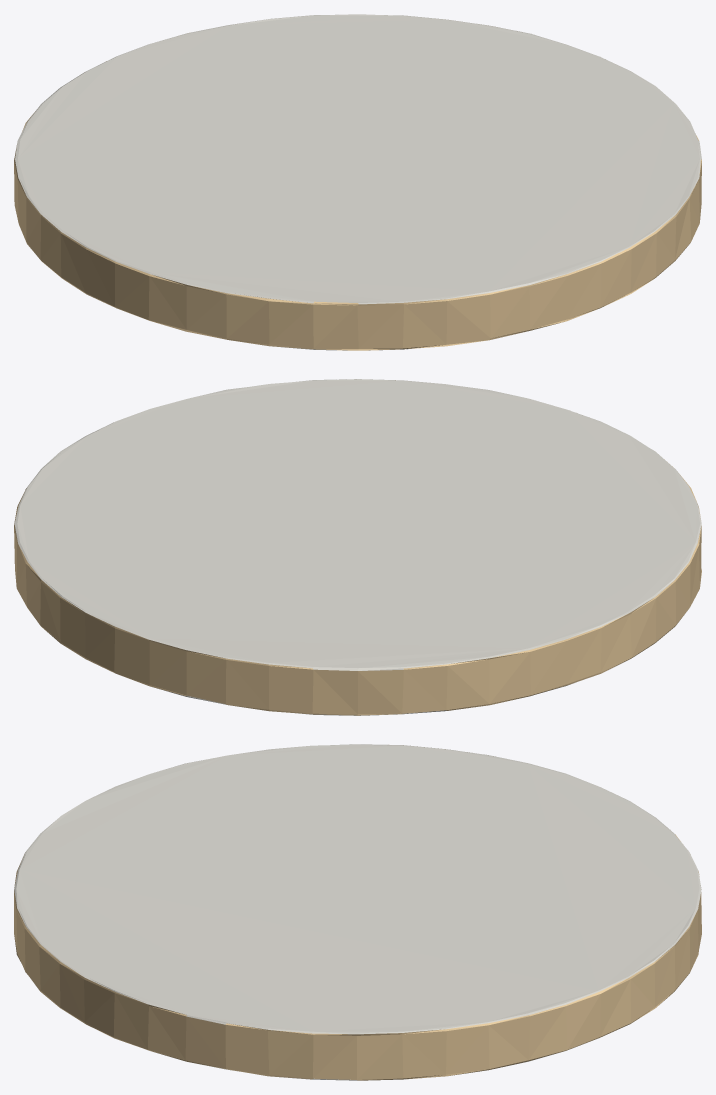
File: filling_layer.glb
The picture shows the model from 3 angles, top to bottom: view 1: azimuth 30°, elevation 25°; view 2: azimuth 150°, elevation 25°; view 3: azimuth 270°, elevation 25°; orthographic projection.
Parts seen in each view (by area): view 1: filling_layer; view 2: filling_layer; view 3: filling_layer.
Part boxes in pixels (box(x1,y1,x2,y2)): filling_layer: box(14, 14, 701, 350); filling_layer: box(14, 379, 701, 715); filling_layer: box(14, 744, 701, 1080).
Bounding box in the file's own units: 19.63 × 1.52 × 19.61.
